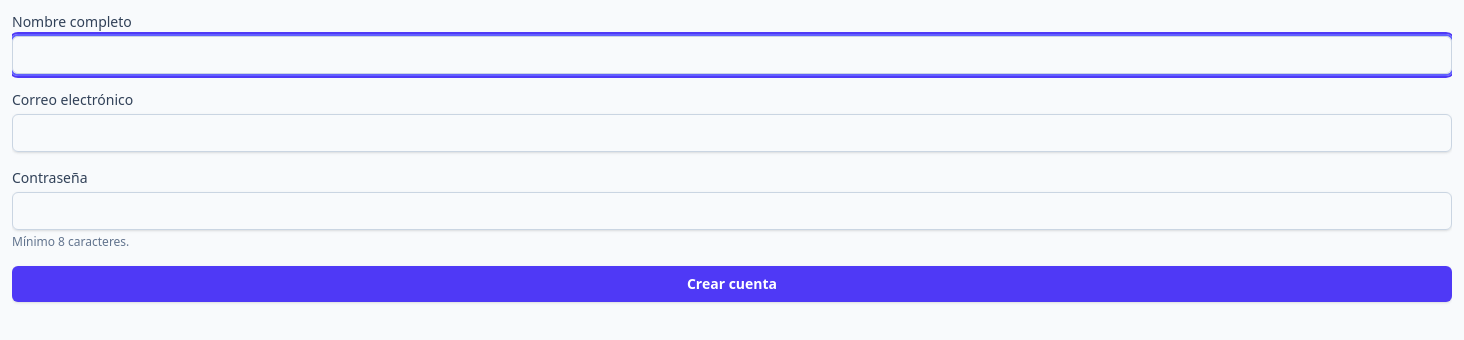
it: RegisterForm (accesible, validación visual) › rechaza un email con formato inválido
Type "Ana García" into the field labelled "Nombre completo" at (732, 55), box [12,36,1452,74]
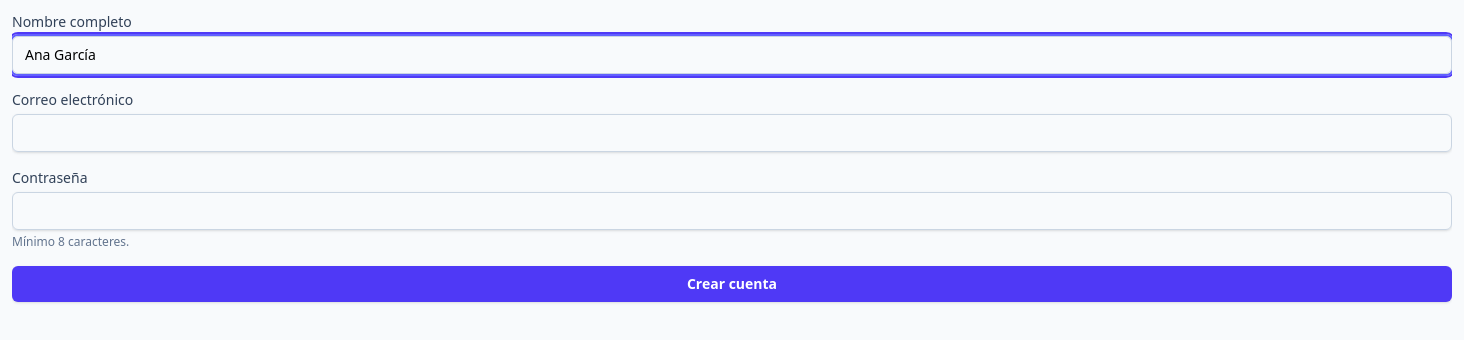
Type "no-es-un-email" into the field labelled "Correo electrónico" at (732, 133), box [12,114,1452,152]
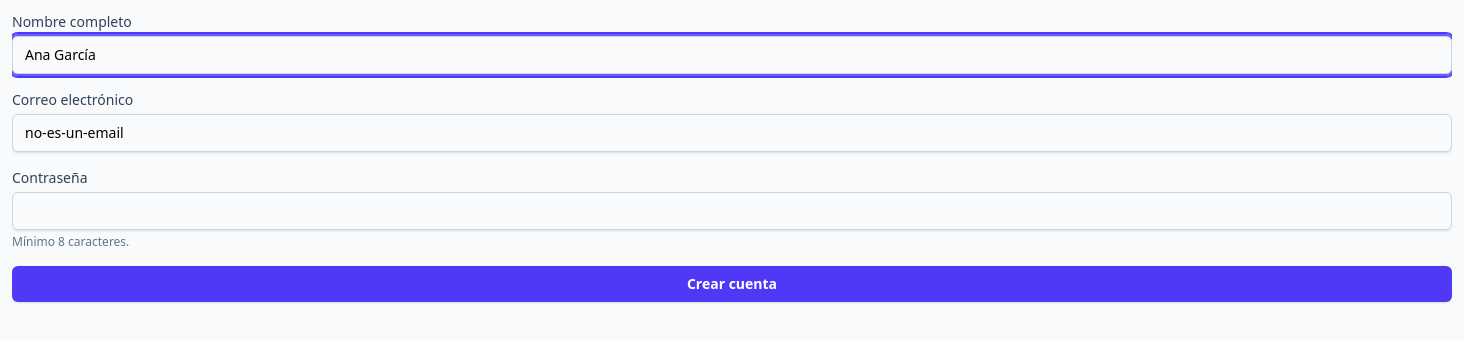
Type "valida1234" into the password field labelled "Contraseña" at (732, 211), box [12,192,1452,230]
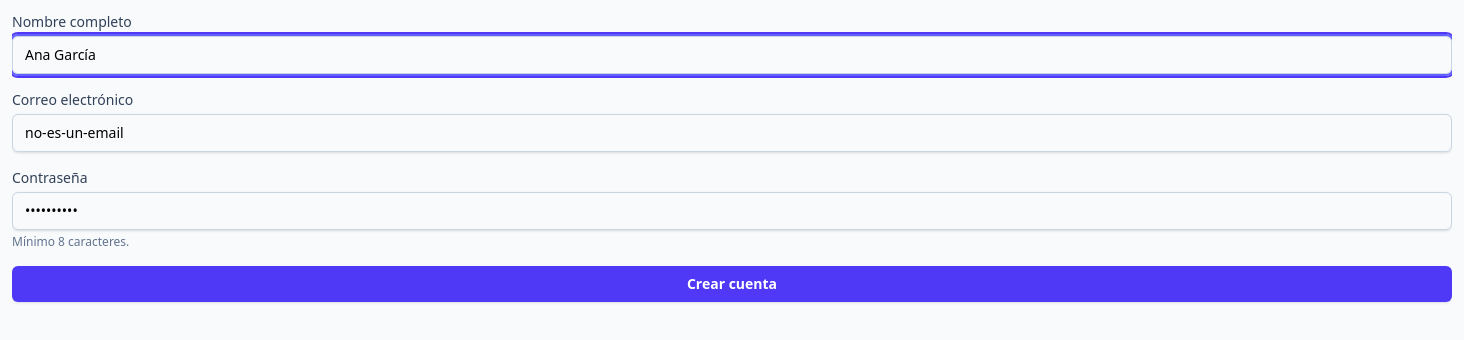
Click the button "Crear cuenta" at (732, 284), box [12,266,1452,302]
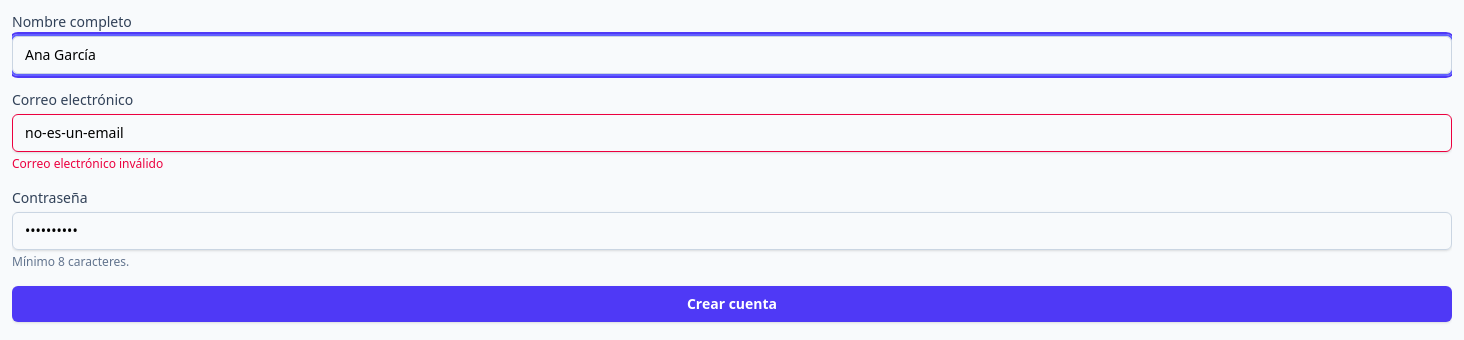
expect the text "Correo electrónico inválido" is shown: met, box [12,155,163,172]
